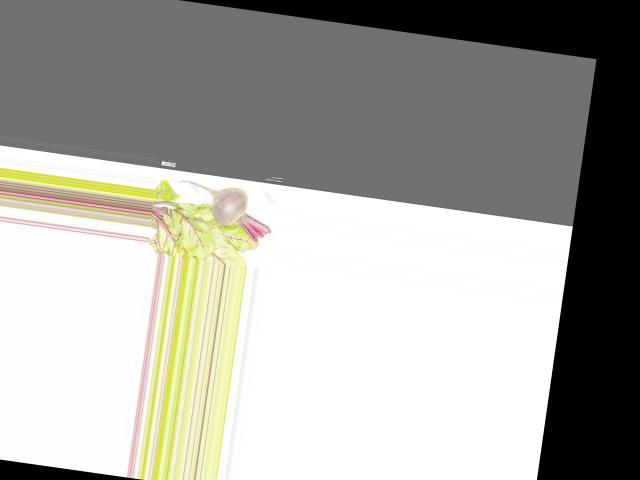beet: (171, 179, 276, 244)
